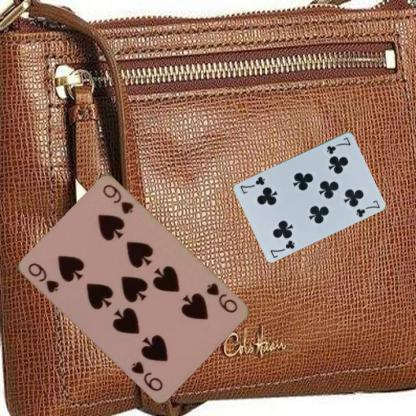7c: (267, 237, 296, 259), (324, 134, 352, 156)
9s: (25, 260, 60, 294), (204, 280, 238, 314)
